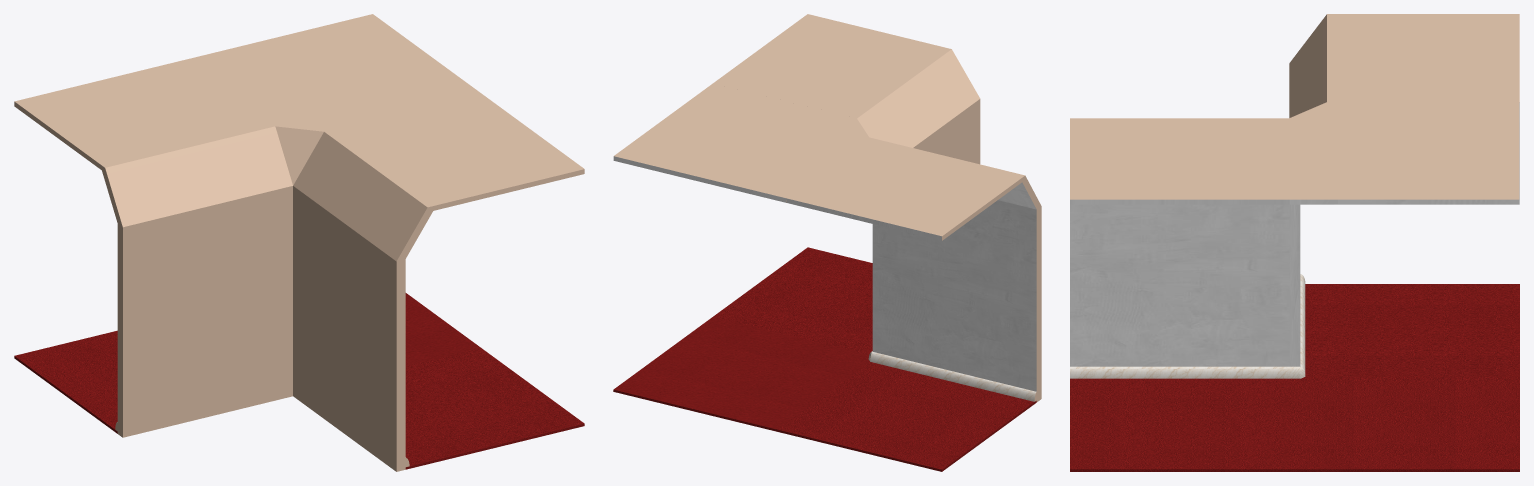
The model's file is Modulo esquina inversa.fbx.
3 renders of one model, left to right at view 1: azimuth 30°, elevation 25°; view 2: azimuth 150°, elevation 25°; view 3: azimuth 270°, elevation 25°, orthographic. The views are drawn at different scales.
Visible parts, largest first — view 1: Esquina inversa; view 2: Esquina inversa; view 3: Esquina inversa.
Part boxes in pixels (x1,y1,x2,y2): Esquina inversa: (14,14,584,471); Esquina inversa: (613,14,1041,471); Esquina inversa: (1070,14,1519,471).
Size of the model in its own units: 802 by 549 by 822.
4 materials, 3 textured.
